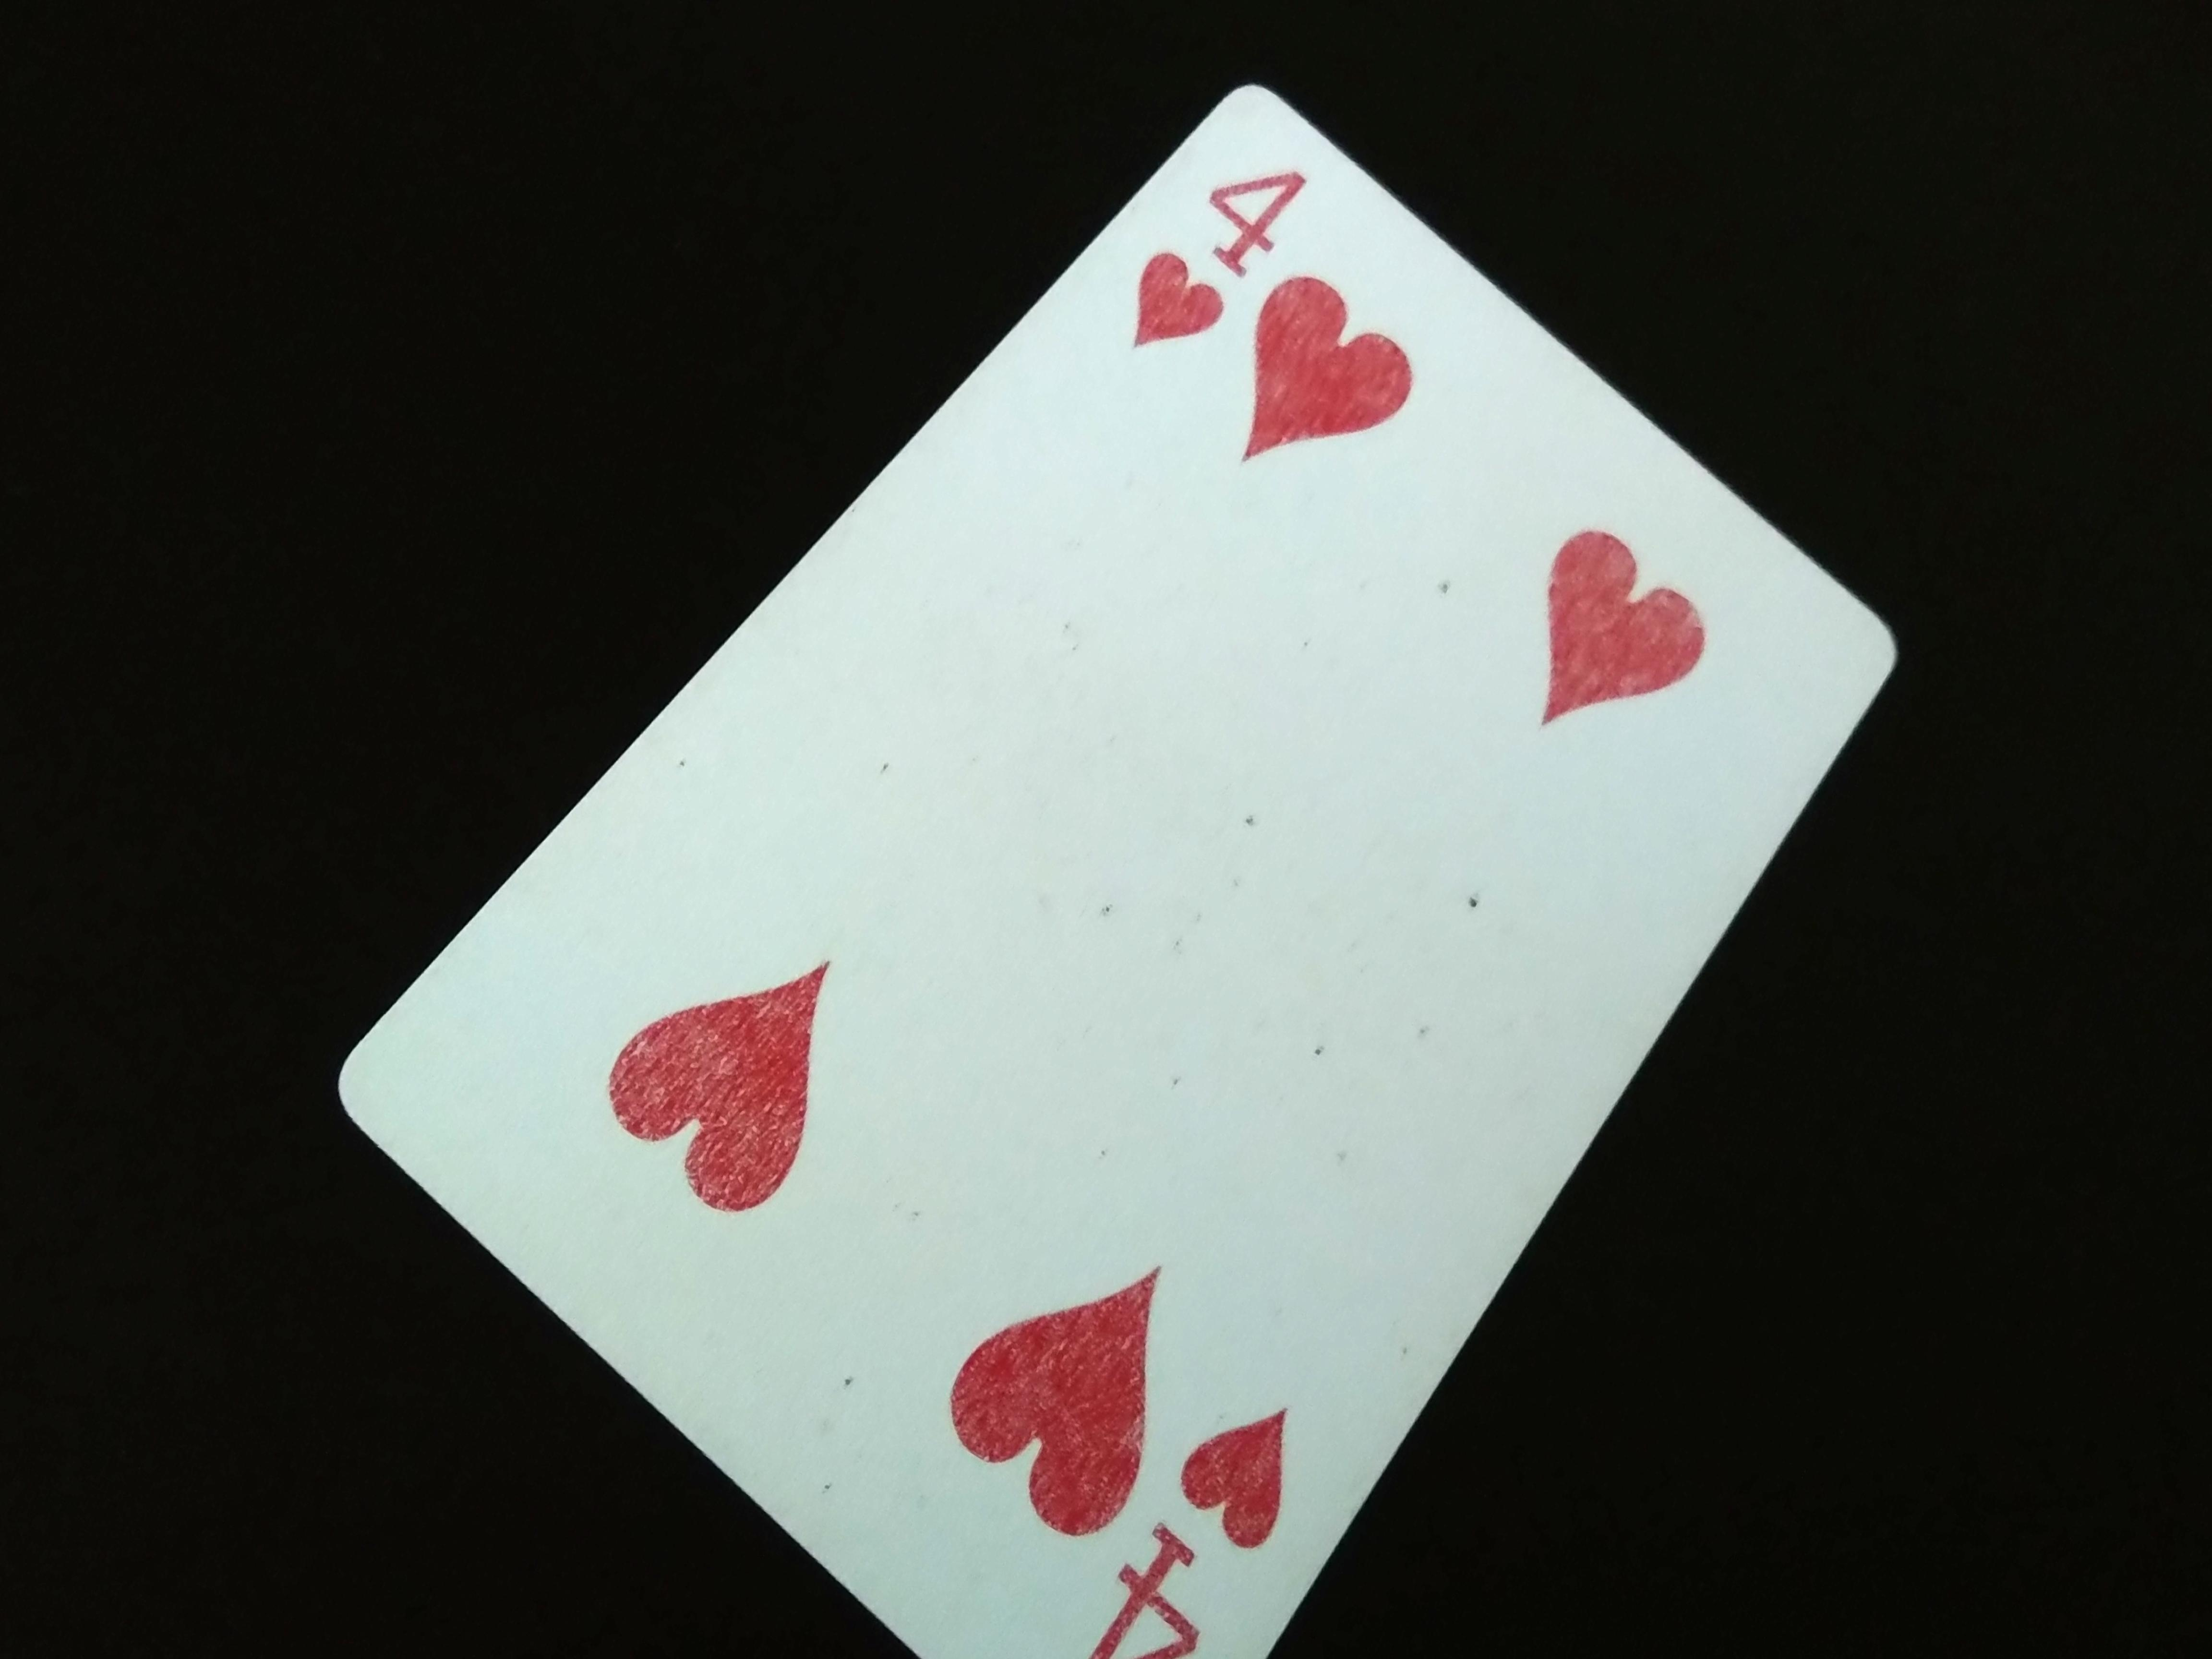4H: (1118, 122, 1313, 368)
